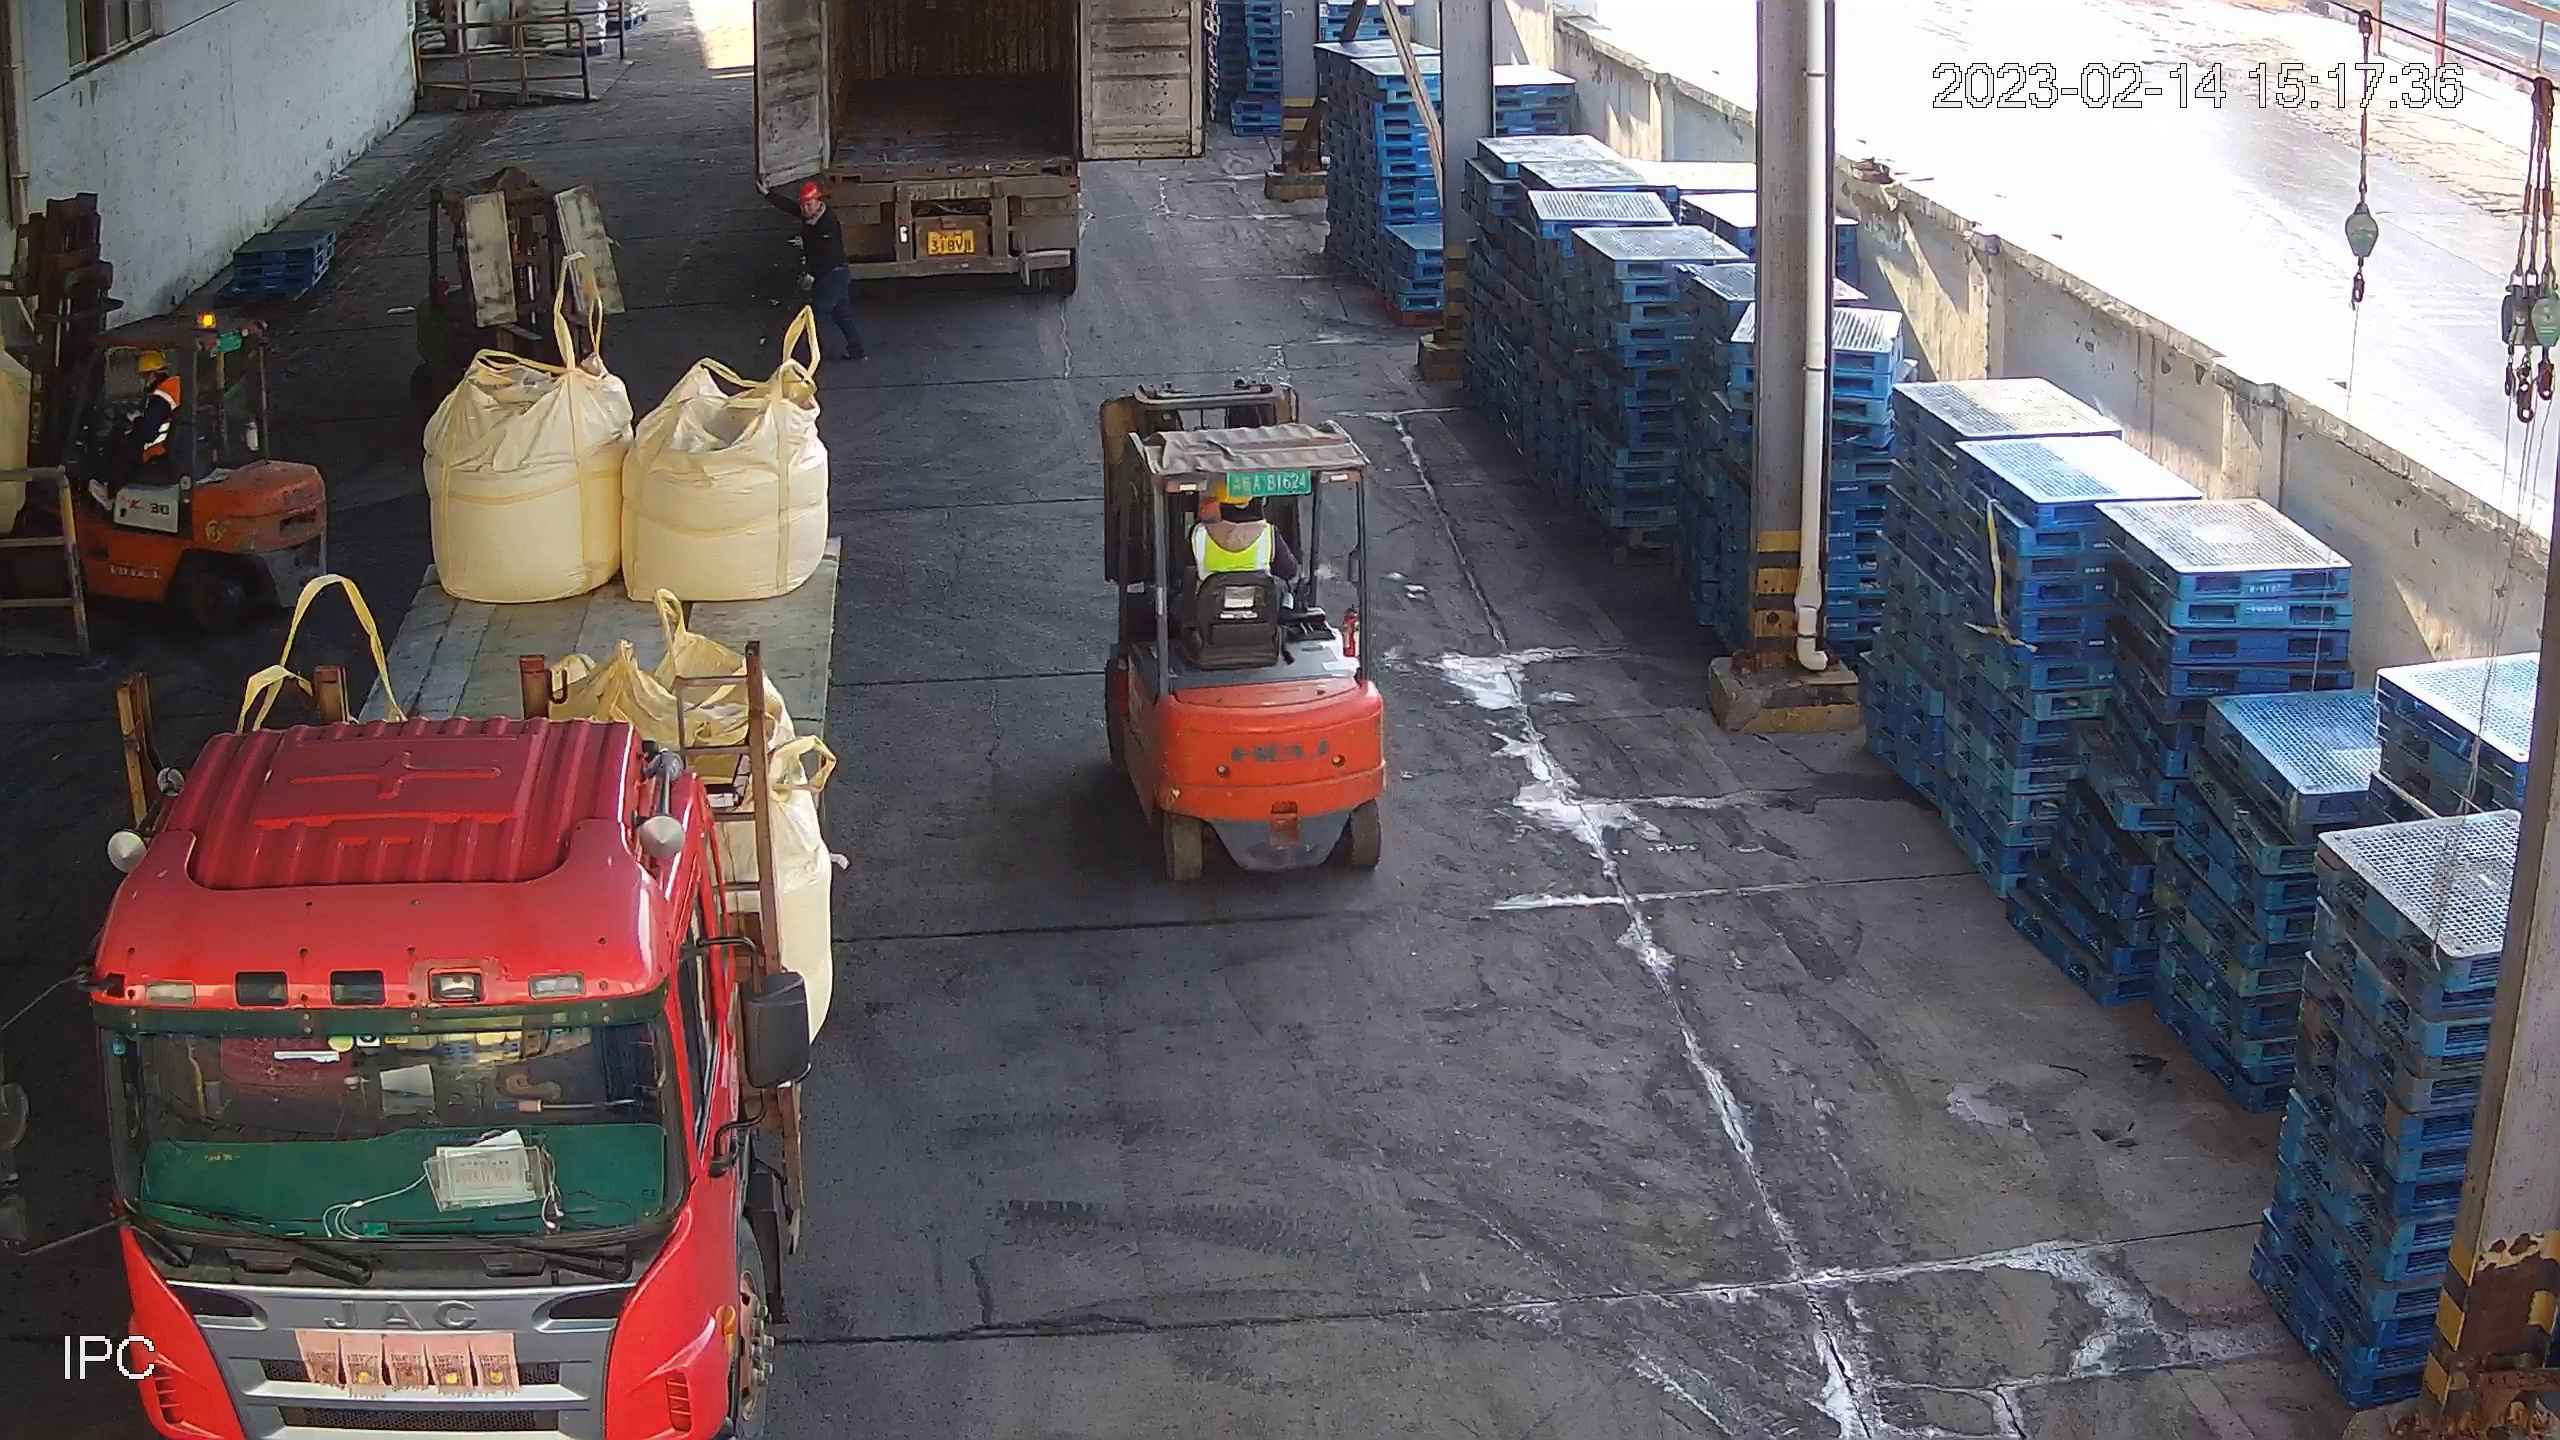head: (767, 174, 842, 266), (118, 350, 188, 435)
helmet: (135, 352, 169, 372), (793, 179, 817, 205)
people: (83, 349, 186, 510)
truck: (3, 510, 849, 1440), (745, 3, 1206, 284), (766, 178, 871, 366)
